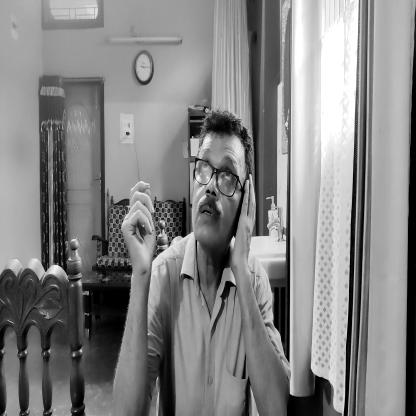Distracted: (188, 108, 252, 258)
